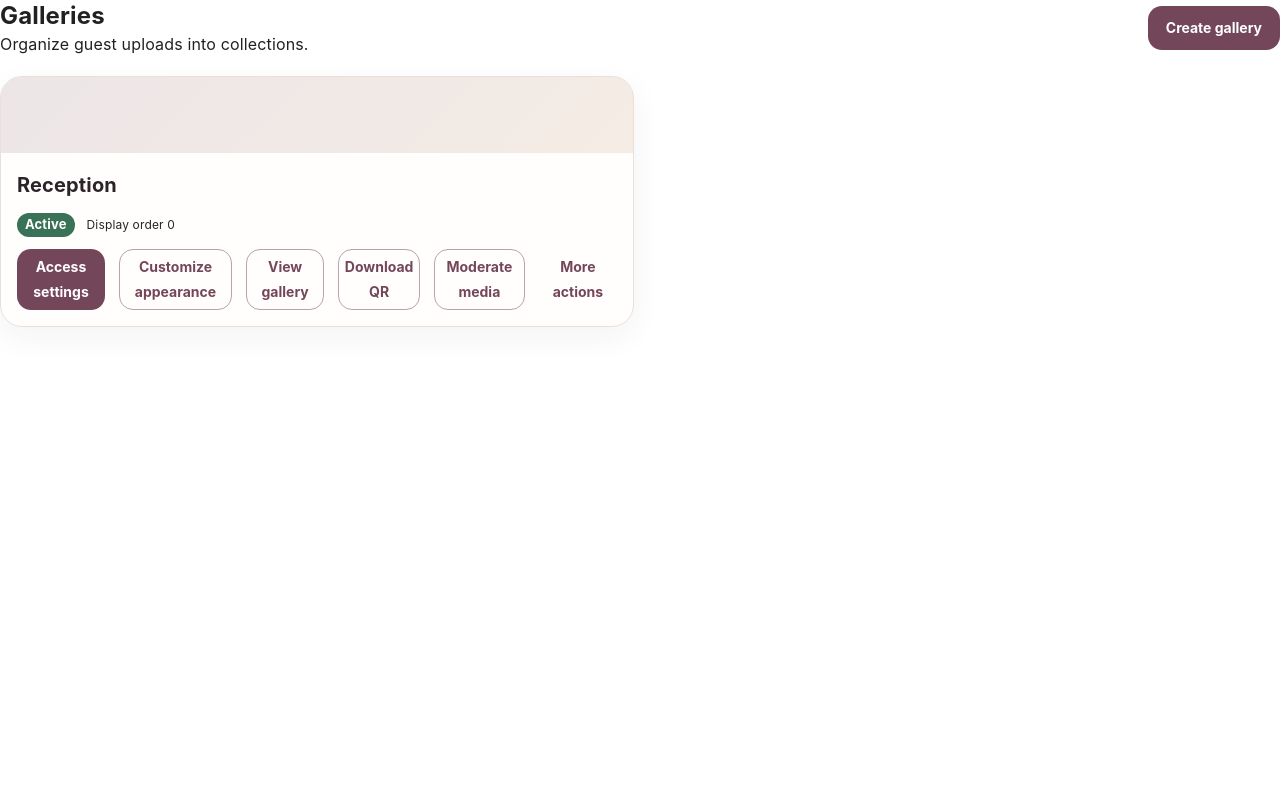
Test: GalleryManager › opens appearance customization from a gallery card for the owner
Expected: the heading "Reception" is shown, [17, 173, 117, 197]
Click the button "Customize appearance".
click(176, 280)  # box [119, 249, 232, 310]
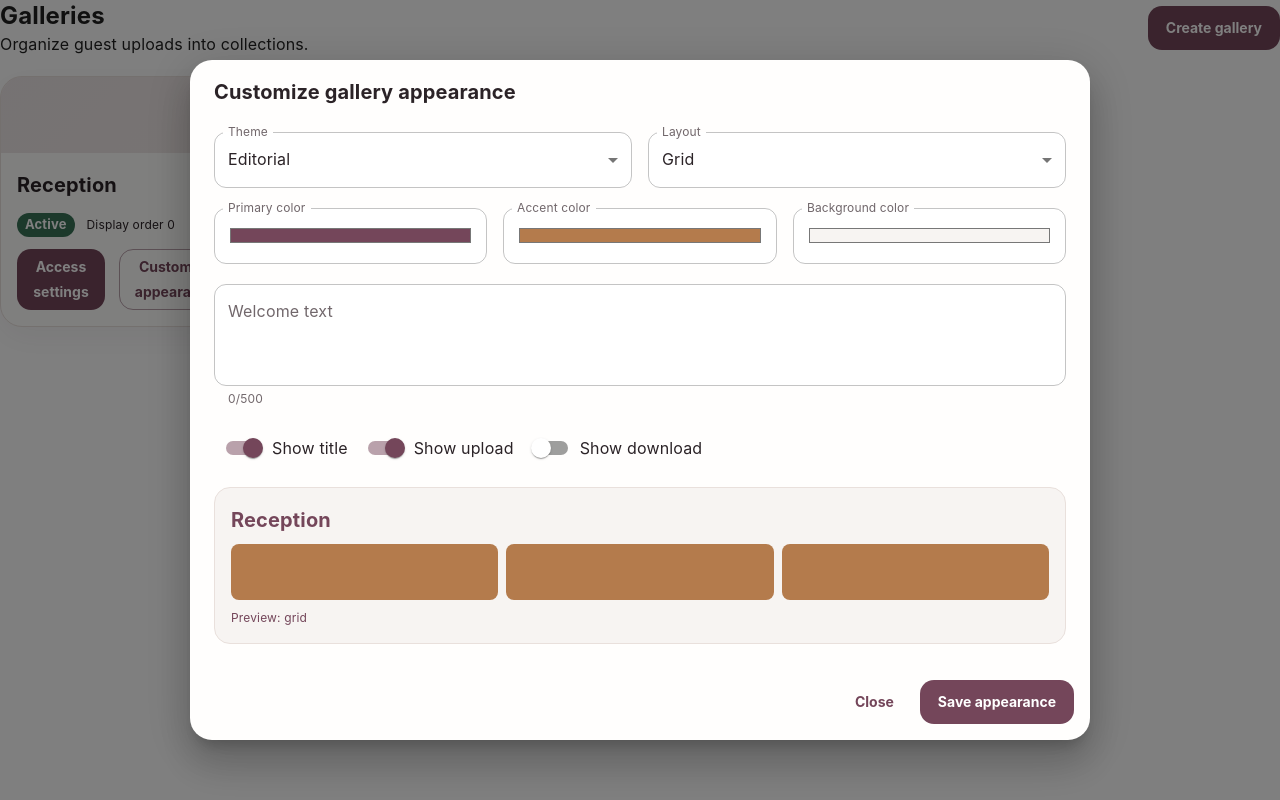
Now the dialog shows "Customize gallery appearance", box [214, 80, 516, 104]
